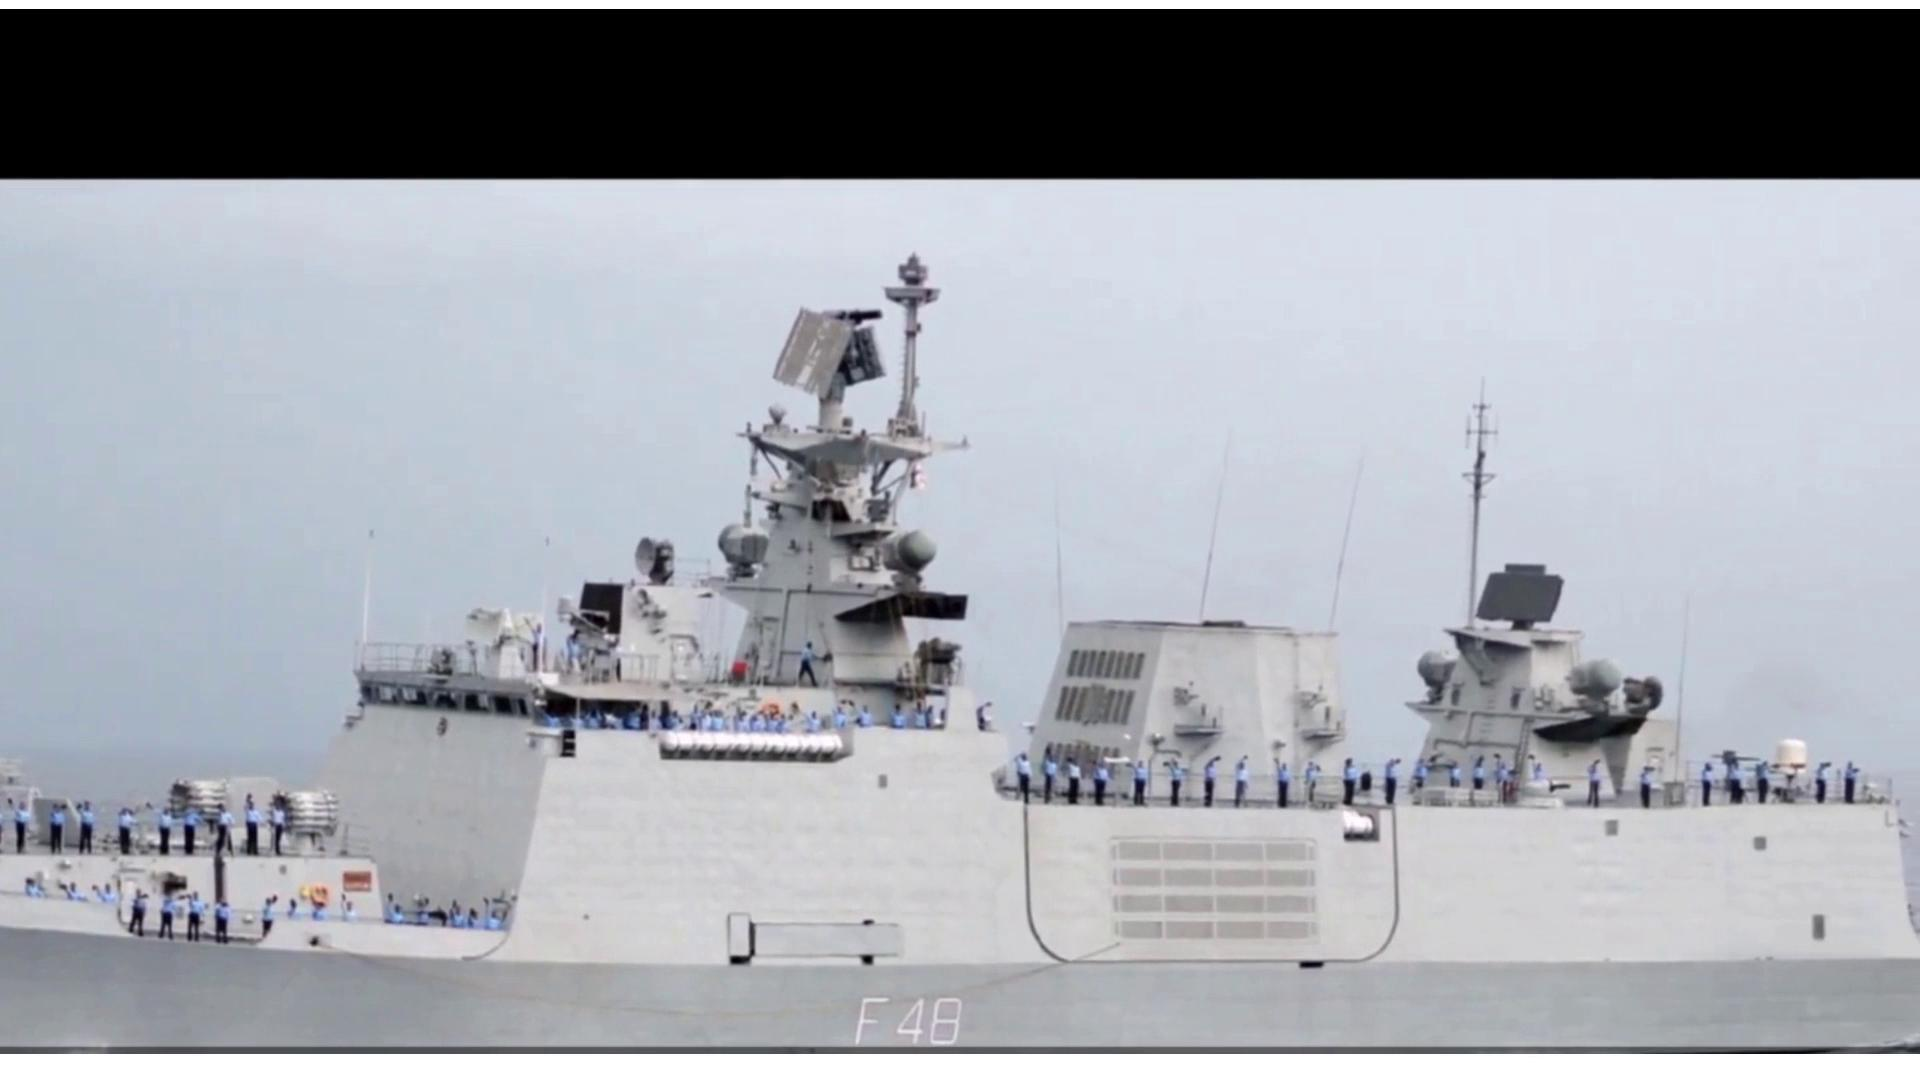OCR: (825, 986, 984, 1048)
